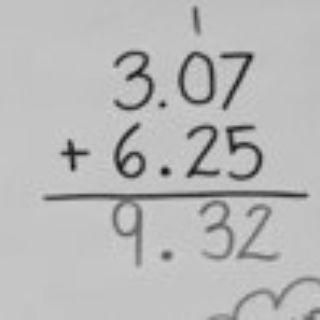.: (157, 163, 172, 178), (159, 248, 174, 261), (157, 99, 167, 110)
0: (177, 51, 216, 106)
1: (189, 4, 207, 37)
2: (235, 202, 281, 261), (184, 119, 221, 181)
3: (107, 47, 155, 111), (196, 196, 234, 262)
5: (223, 123, 266, 183)
6: (111, 121, 151, 181)
7: (218, 49, 256, 114)
9: (110, 200, 151, 270)
